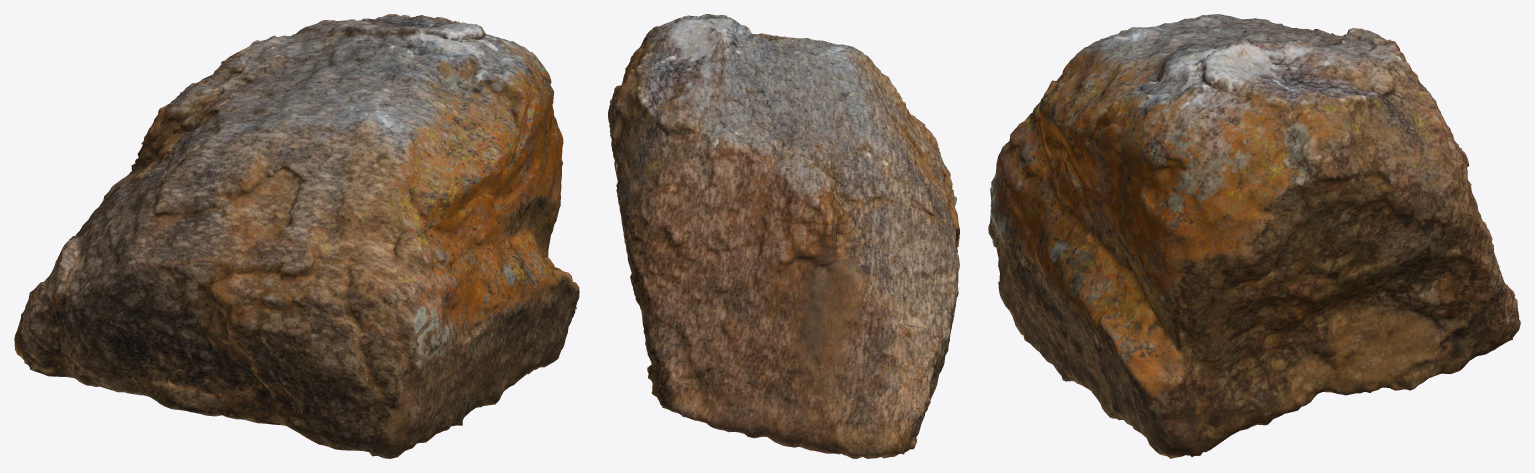
Rendered from namaqualand_boulder_04.glb.
3 renders of one model, left to right at view 1: azimuth 30°, elevation 25°; view 2: azimuth 150°, elevation 25°; view 3: azimuth 270°, elevation 25°, orthographic. The views are drawn at different scales.
Visible parts, largest first — view 1: boulder_04; view 2: boulder_04; view 3: boulder_04.
Boxes of the visible parts, x1,y1,x2,y2 form: boulder_04: (14,14,579,458); boulder_04: (608,14,959,458); boulder_04: (988,14,1520,458).
Size of the model in its own units: 2 by 1.51 by 1.98.
Materials: 1 (1 with a texture image).
